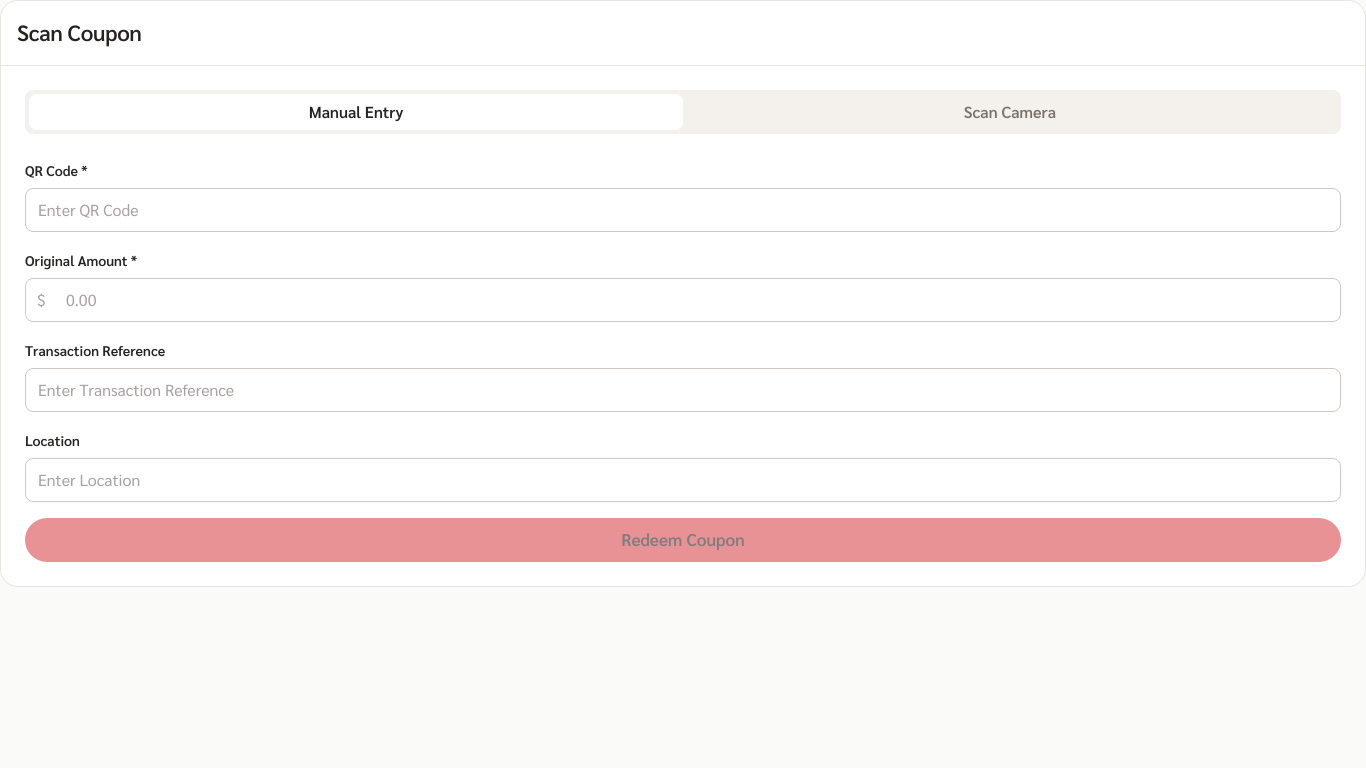
Test case: CouponScanner › Validation Result Display › should display valid coupon message
The width and height of the screenshot is (1366, 768).
Type "QR123456" into the field labelled "QR Code *" at (683, 210), box 25,188 -> 1341,232
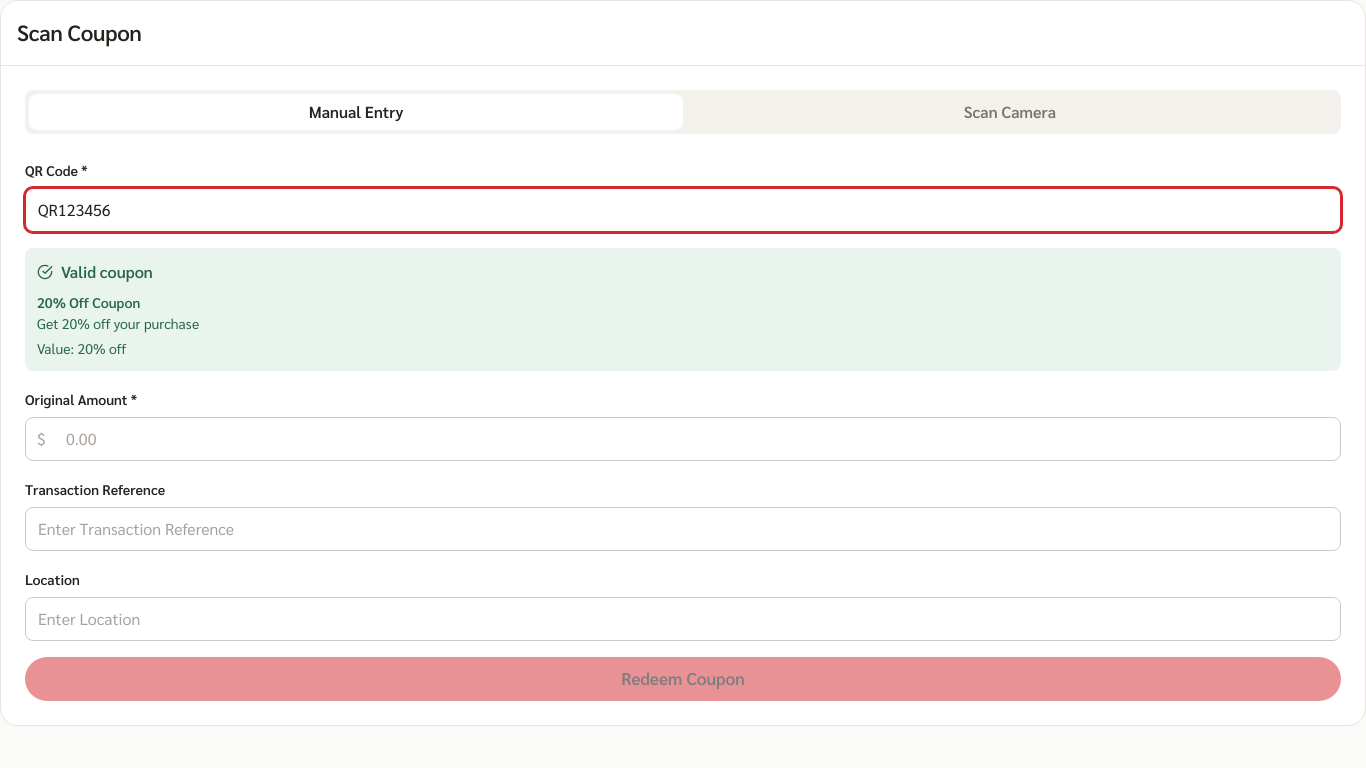
Check: the text "Valid coupon" is shown, box 61,260 -> 153,284
